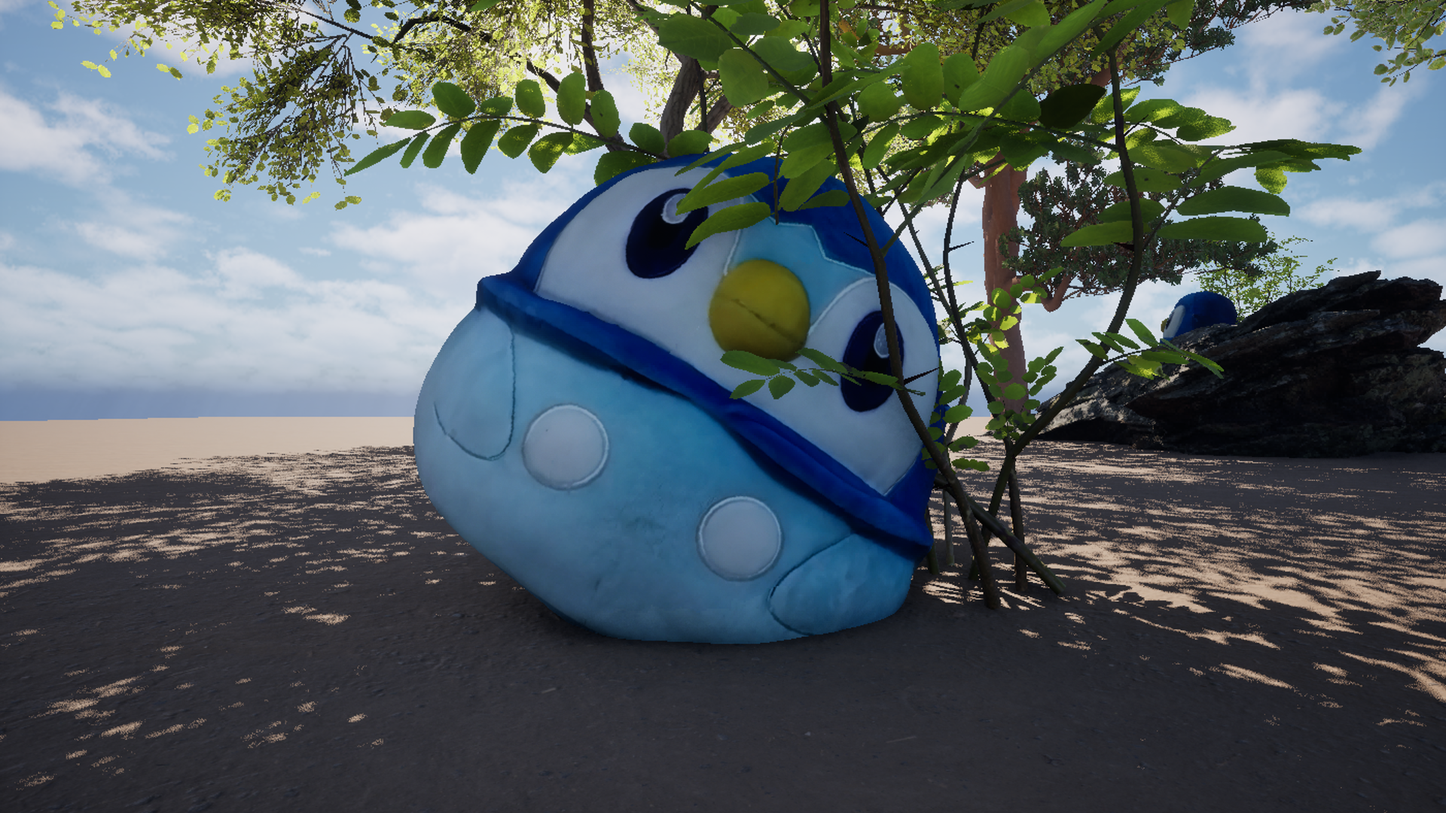Piplup: (262, 0, 1184, 813)
